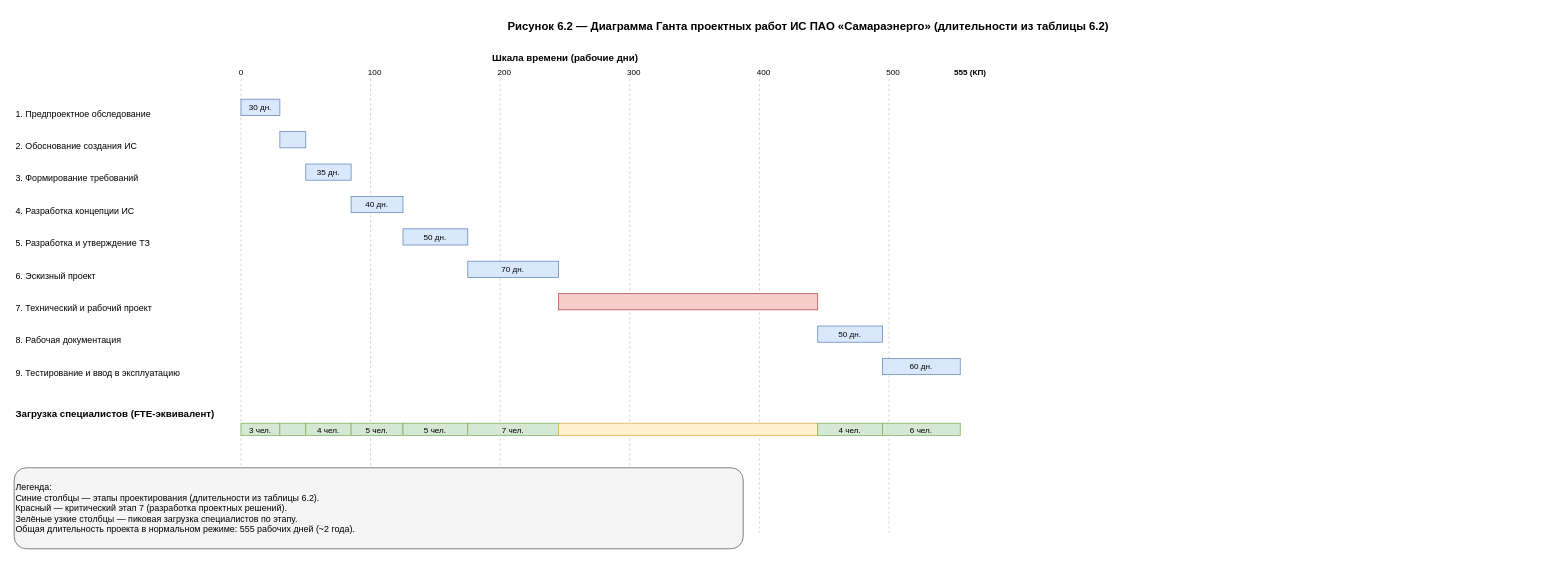
Some shapes in this 1551 by 563 pixel diagram are drawn without their labels. The centre of each missing label's shape, as x and y in pixels:
"2 чел." goes at pixel 292 428.
"20 дн." goes at pixel 292 139.
"200 дн. (критический этап)" goes at pixel 688 301.
"21 чел. (пик загрузки)" goes at pixel 688 428.
